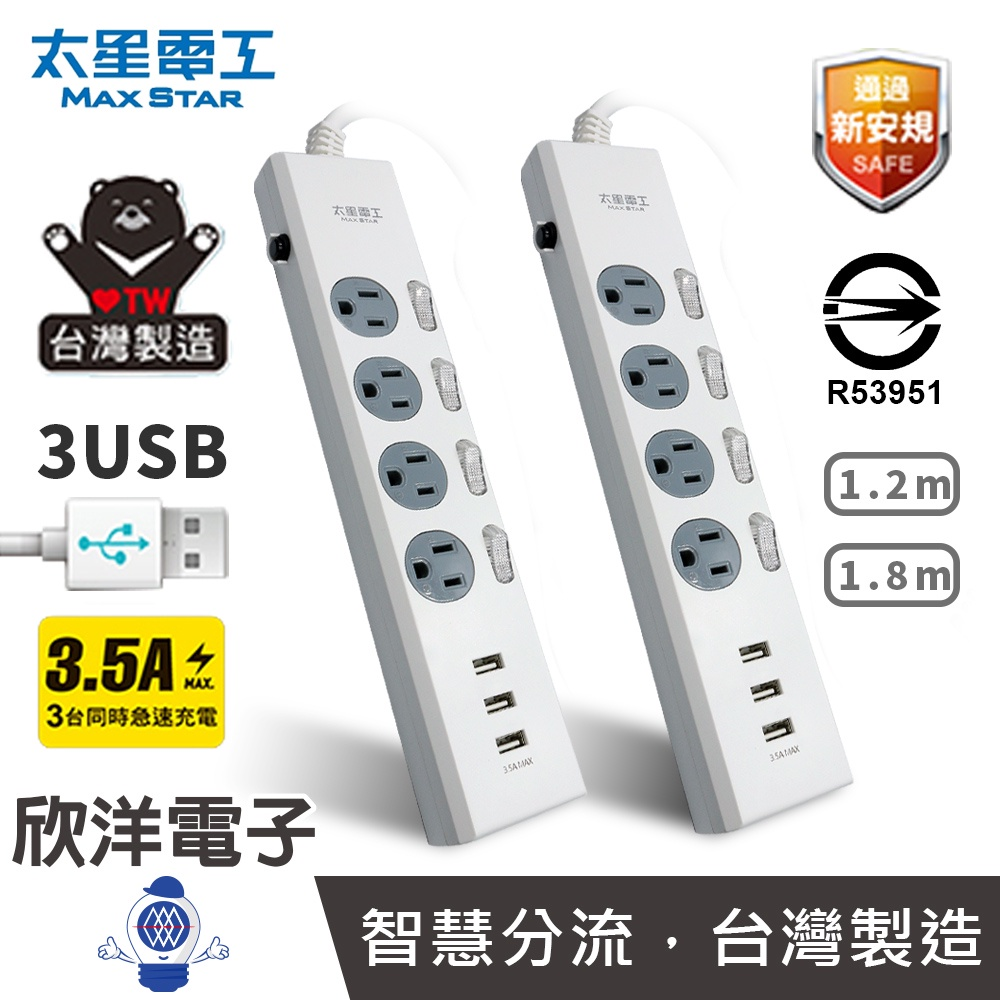socket: (255, 119, 590, 851), (520, 114, 857, 835)
